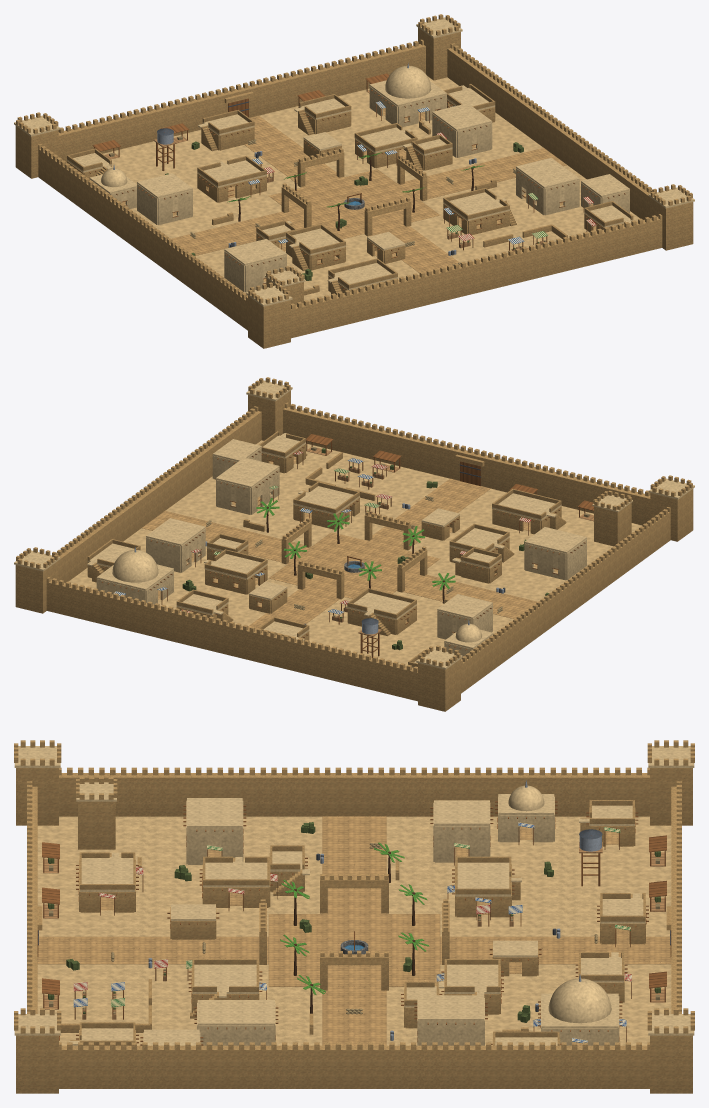
Rendered from map_dust (1).glb.
3 renders of one model, top to bottom at view 1: azimuth 30°, elevation 25°; view 2: azimuth 150°, elevation 25°; view 3: azimuth 270°, elevation 25°, orthographic. The views are drawn at different scales.
Parts seen in each view (by area): view 1: sandbrick, plaster, sand, floortile, wood, nocol_sandbrick, nocol_wood; view 2: sandbrick, plaster, sand, floortile, wood, leaves, nocol_sandbrick, nocol_wood, woodlight, crate; view 3: sandbrick, sand, plaster, floortile, wood, nocol_wood, woodlight, crate, leaves, cloth_blue, nocol_sandbrick, cloth_red (+1 smaller).
Part boxes in pixels (bbox=[...]): sandbrick: bbox=[15, 14, 693, 348]; plaster: bbox=[14, 17, 694, 306]; sand: bbox=[103, 76, 640, 301]; floortile: bbox=[122, 108, 596, 281]; wood: bbox=[92, 73, 592, 250]; nocol_sandbrick: bbox=[94, 109, 625, 294]; nocol_wood: bbox=[69, 90, 625, 289]; sandbrick: bbox=[15, 377, 693, 711]; plaster: bbox=[14, 380, 694, 669]; sand: bbox=[68, 440, 641, 665]; floortile: bbox=[119, 457, 557, 633]; wood: bbox=[161, 434, 593, 657]; leaves: bbox=[256, 498, 455, 590]; nocol_sandbrick: bbox=[92, 453, 566, 640]; nocol_wood: bbox=[98, 447, 585, 650]; woodlight: bbox=[306, 447, 593, 636]; crate: bbox=[182, 448, 549, 650]; sandbrick: bbox=[14, 740, 694, 1093]; sand: bbox=[37, 816, 671, 1045]; plaster: bbox=[14, 746, 694, 1045]; floortile: bbox=[37, 816, 671, 1045]; wood: bbox=[37, 827, 671, 1042]; nocol_wood: bbox=[76, 801, 648, 1045]; woodlight: bbox=[43, 842, 665, 1019]; crate: bbox=[48, 822, 660, 1022]; leaves: bbox=[280, 842, 428, 994]; cloth_blue: bbox=[73, 822, 626, 1043]; nocol_sandbrick: bbox=[70, 817, 632, 1040]; cloth_red: bbox=[73, 867, 631, 991].
Size of what is drawn, in the model's own units: 127 by 13.74 by 127.
Materials: 17 (17 with a texture image).
